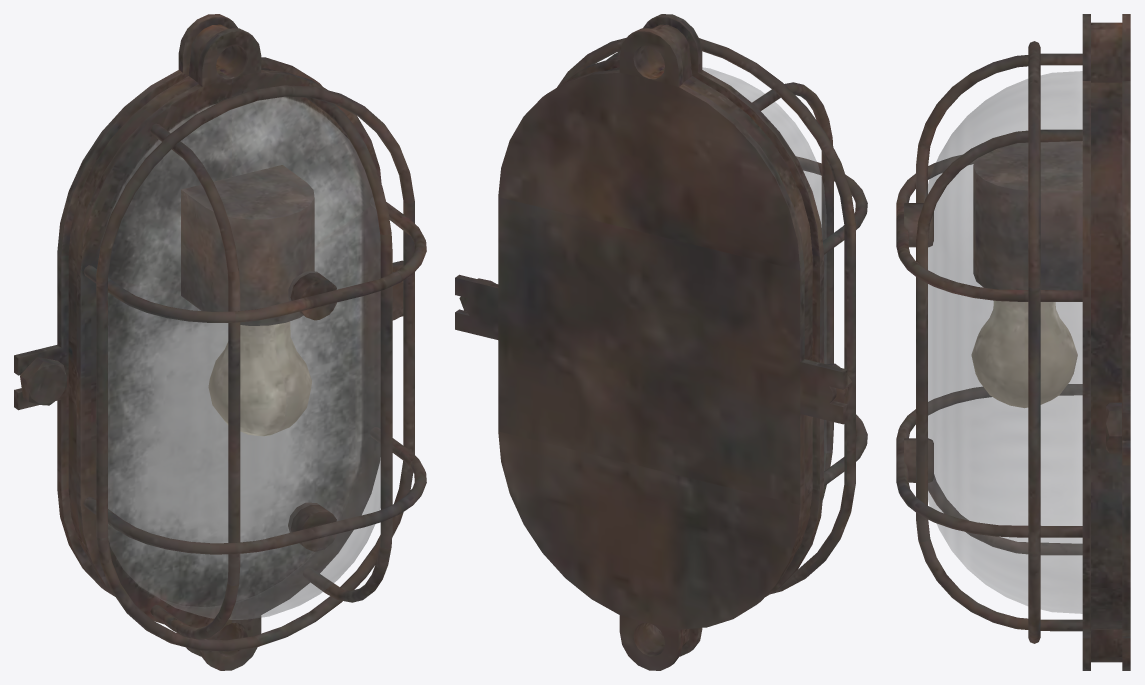
File: wall_lamp.glb
The picture shows the model from 3 angles, left to right: view 1: azimuth 30°, elevation 25°; view 2: azimuth 150°, elevation 25°; view 3: azimuth 270°, elevation 25°; orthographic projection.
Visible parts, largest first — view 1: industrial_wall_lamp; view 2: industrial_wall_lamp; view 3: industrial_wall_lamp.
Boxes of the visible parts, bbox=[...] form: industrial_wall_lamp: bbox=[14, 14, 426, 670]; industrial_wall_lamp: bbox=[455, 14, 867, 670]; industrial_wall_lamp: bbox=[896, 14, 1130, 670].
Bounding box in the file's own units: 0.2734 × 0.4299 × 0.1404.
Materials: 2 (2 with a texture image).
